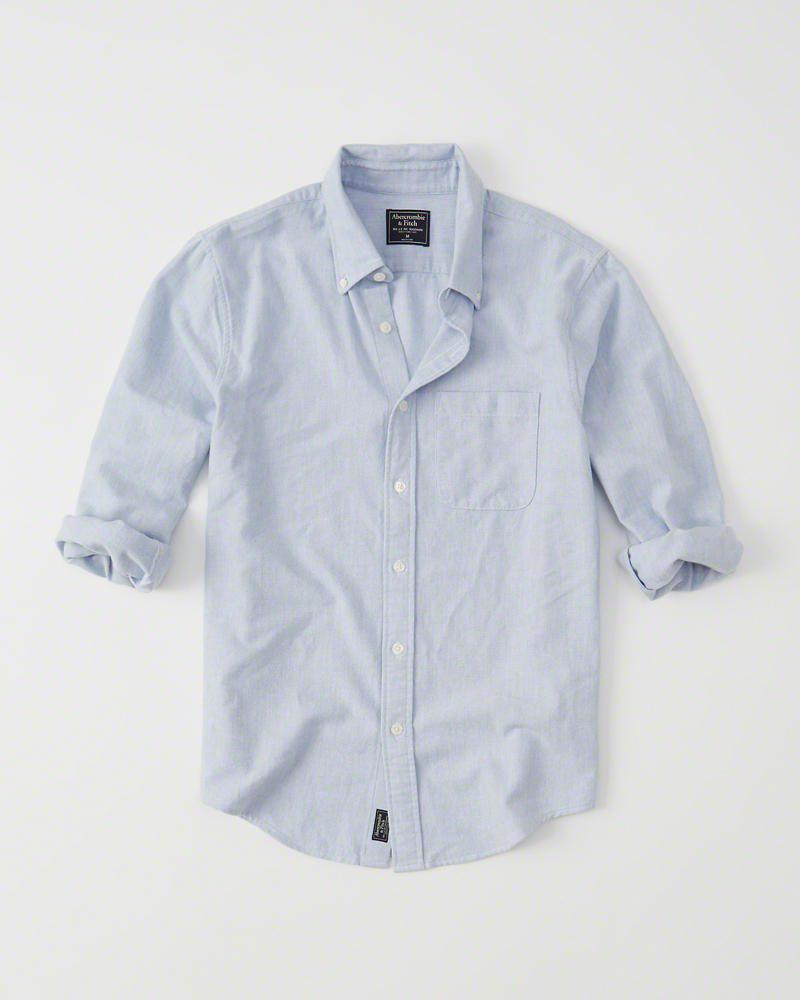teeshirt: (49, 143, 747, 881)
